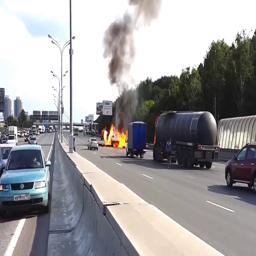fire: (103, 123, 128, 148)
